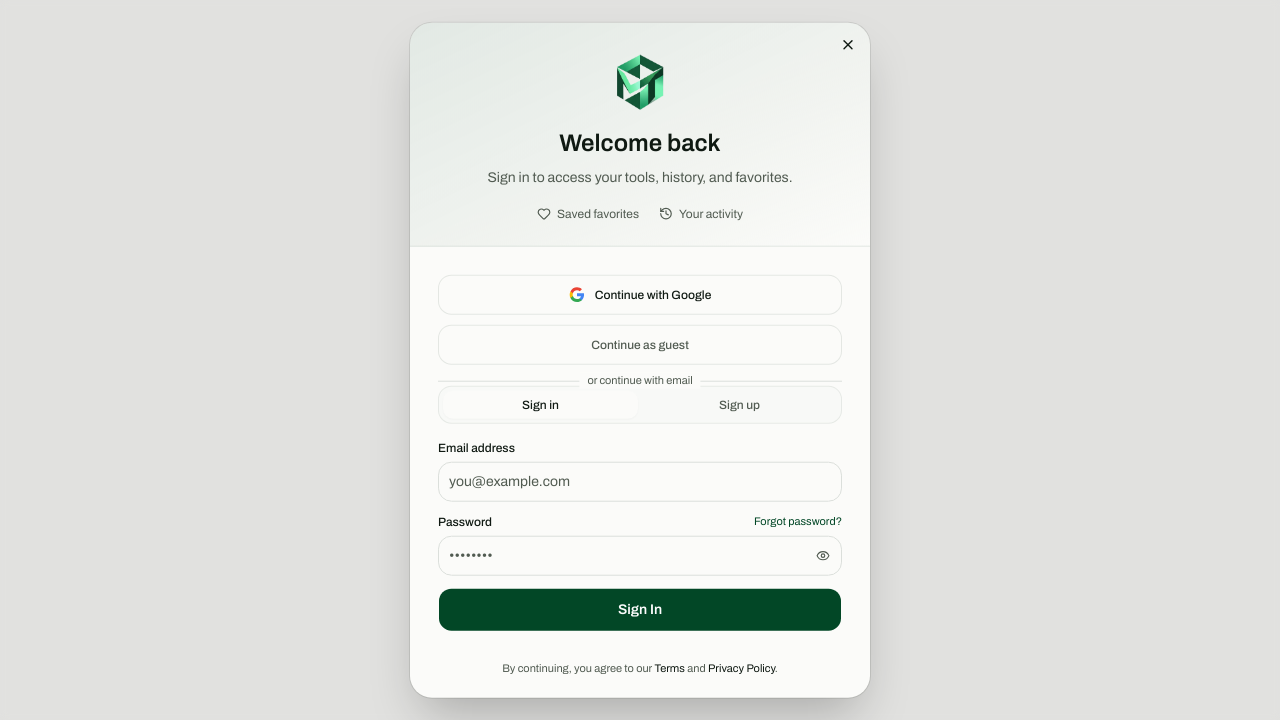
Scenario: sign-in dialog feedback › does not reveal whether a password-reset account exists
Click the button "Forgot password?".
click(798, 521)  # box [754,514,842,529]
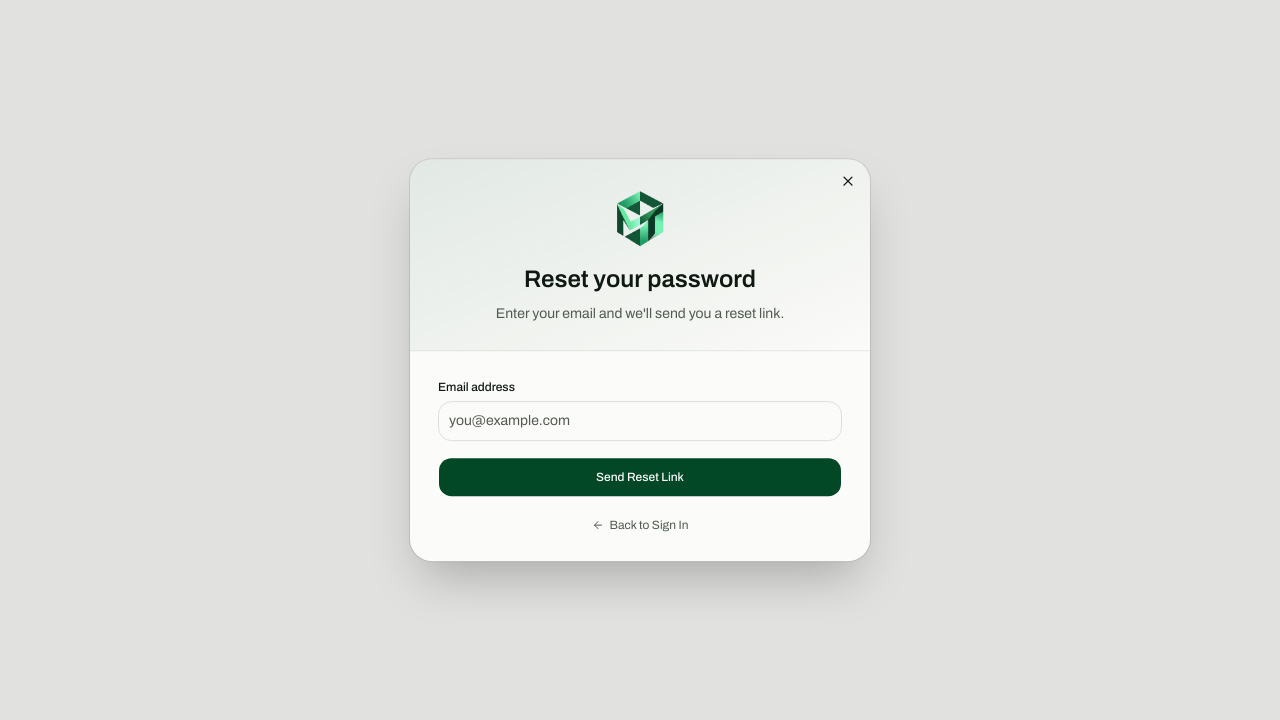
Type "missing@example.com" into the field labelled "Email address".
click(640, 421); type("missing@example.com")  # box [438,401,842,441]
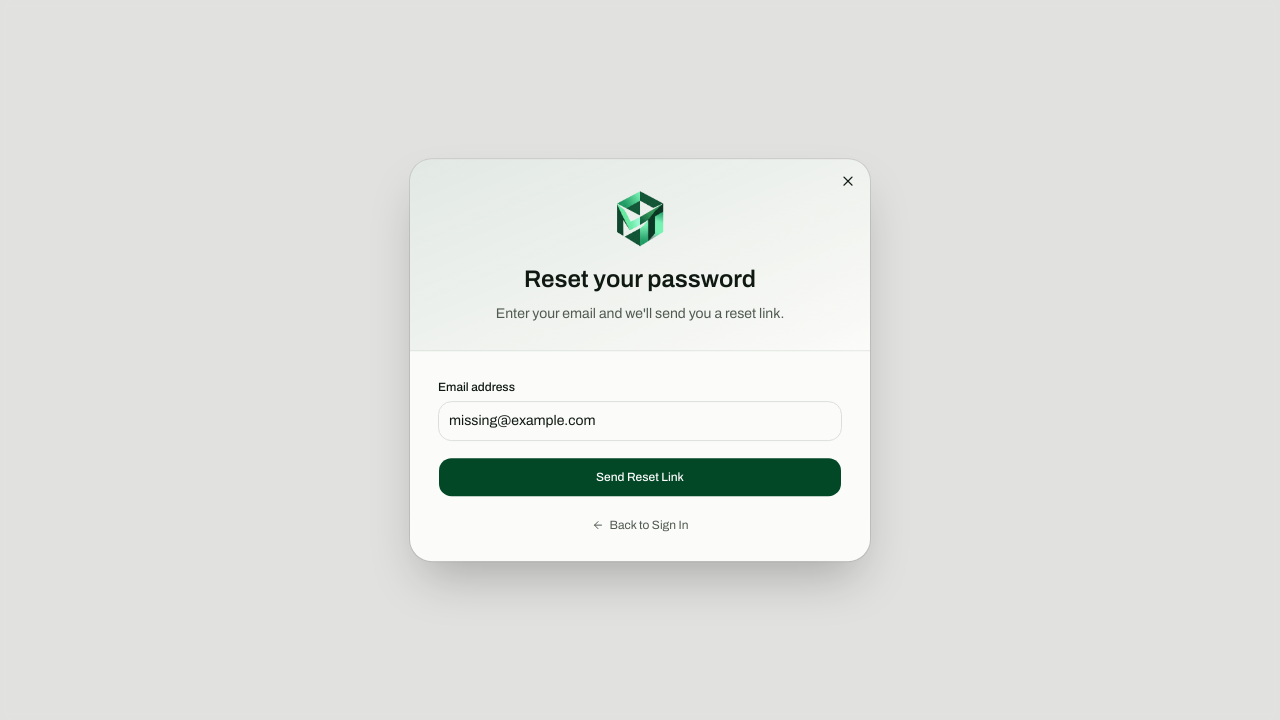
Submit the form, box [438,379,842,533]
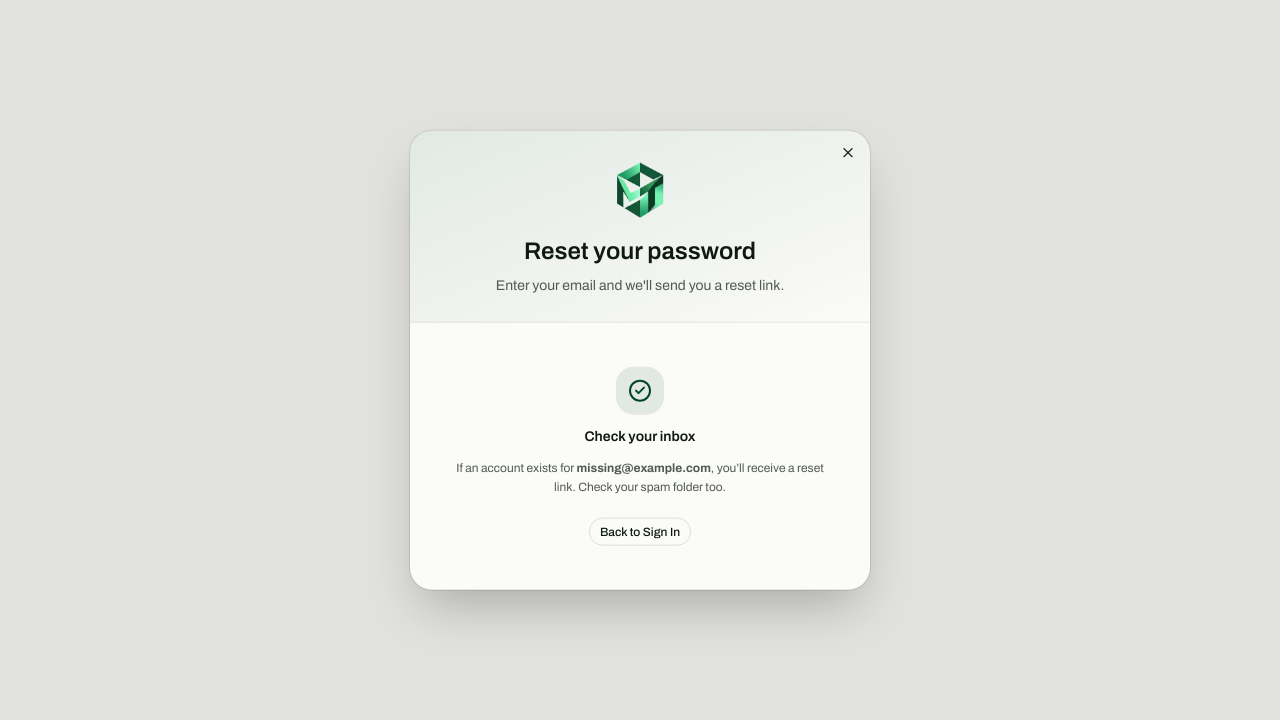
Result: the text "If an account exists" is shown at [456,460,577,474]
